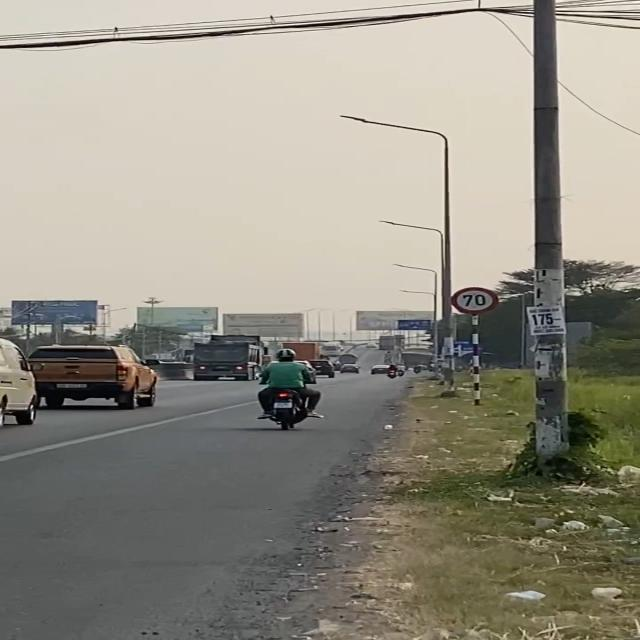127-toc-do-toi-da-70: (451, 287, 499, 315)
